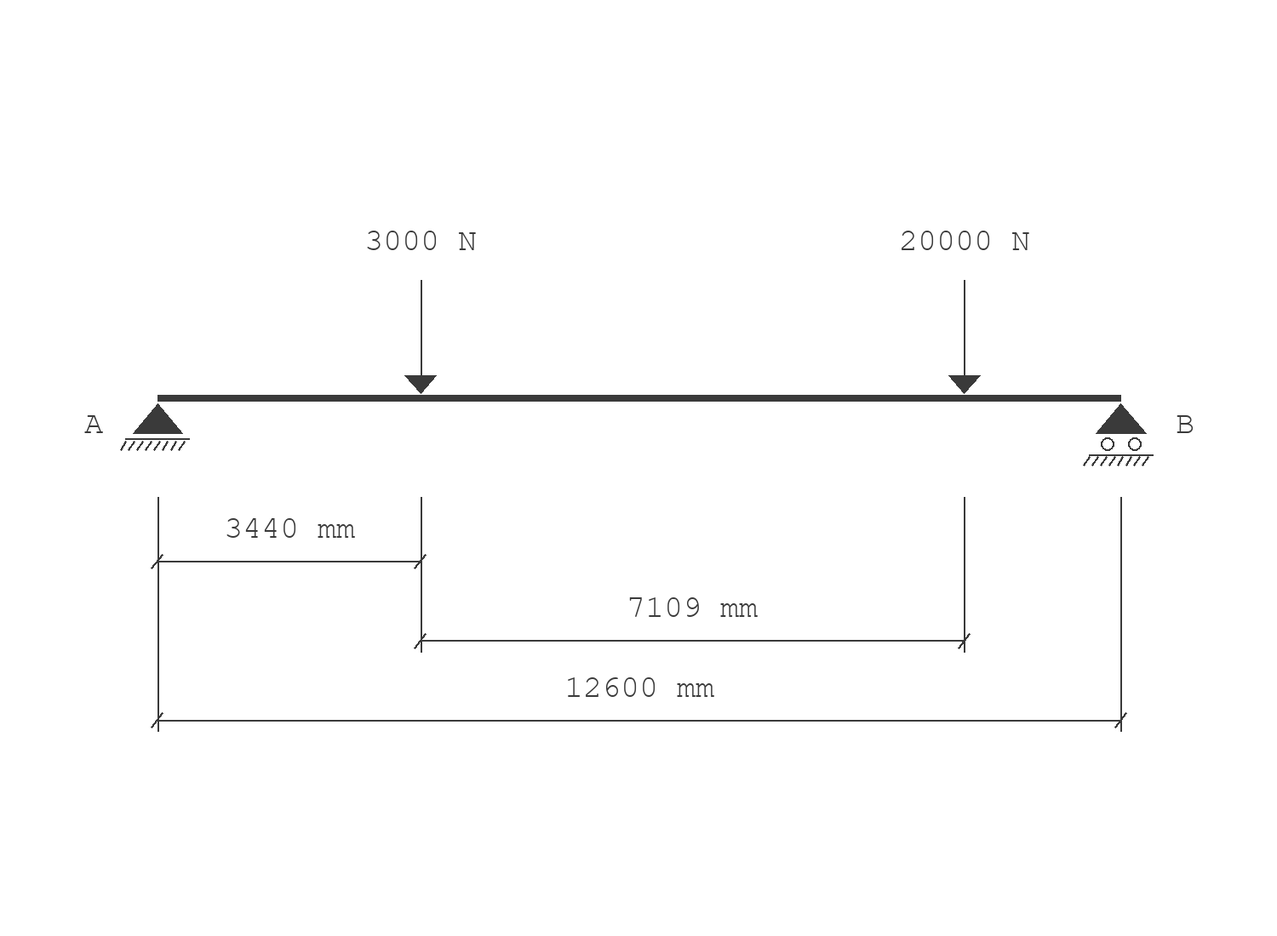pin_support: (120, 403, 190, 451)
point_load: (404, 280, 437, 394), (948, 280, 981, 394)
roller_support: (1083, 403, 1154, 466)
